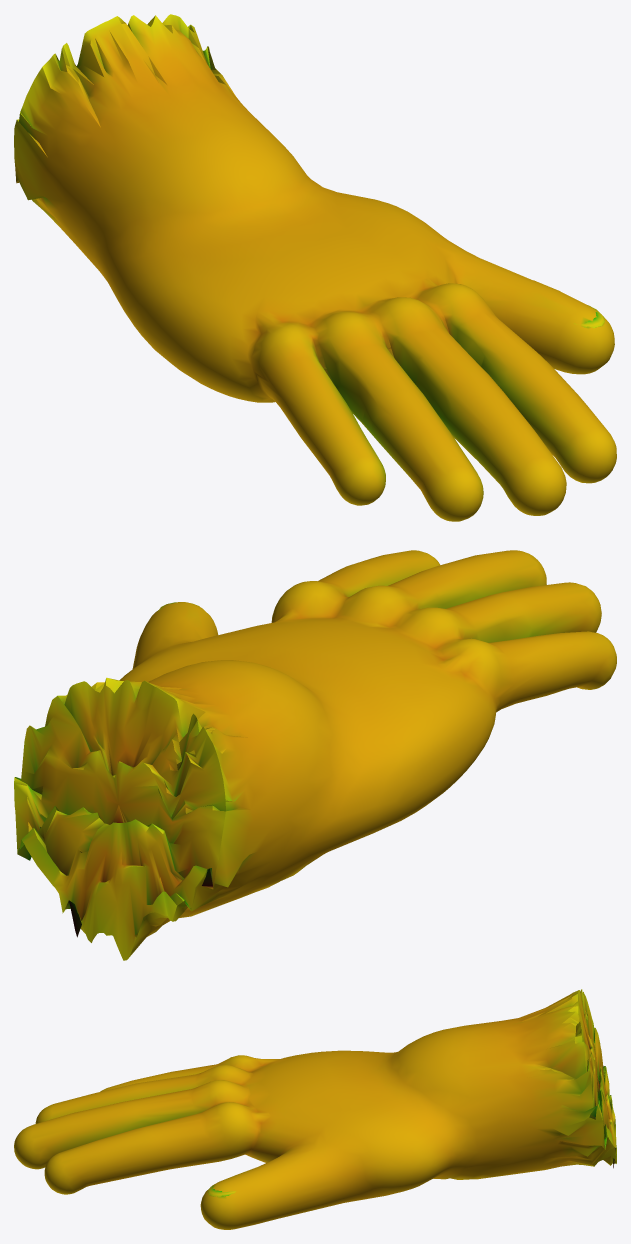
The model's file is hand_lo.glb.
The picture shows the model from 3 angles, top to bottom: view 1: azimuth 30°, elevation 25°; view 2: azimuth 150°, elevation 25°; view 3: azimuth 270°, elevation 25°; orthographic projection. The views are drawn at different scales.
Parts seen in each view (by area): view 1: hand; view 2: hand; view 3: hand.
Boxes of the visible parts, x1,y1,x2,y2 form: hand: (14,14,616,521); hand: (14,550,616,960); hand: (14,989,616,1229).
Size of the model in its own units: 2.26 by 1.43 by 4.6.
